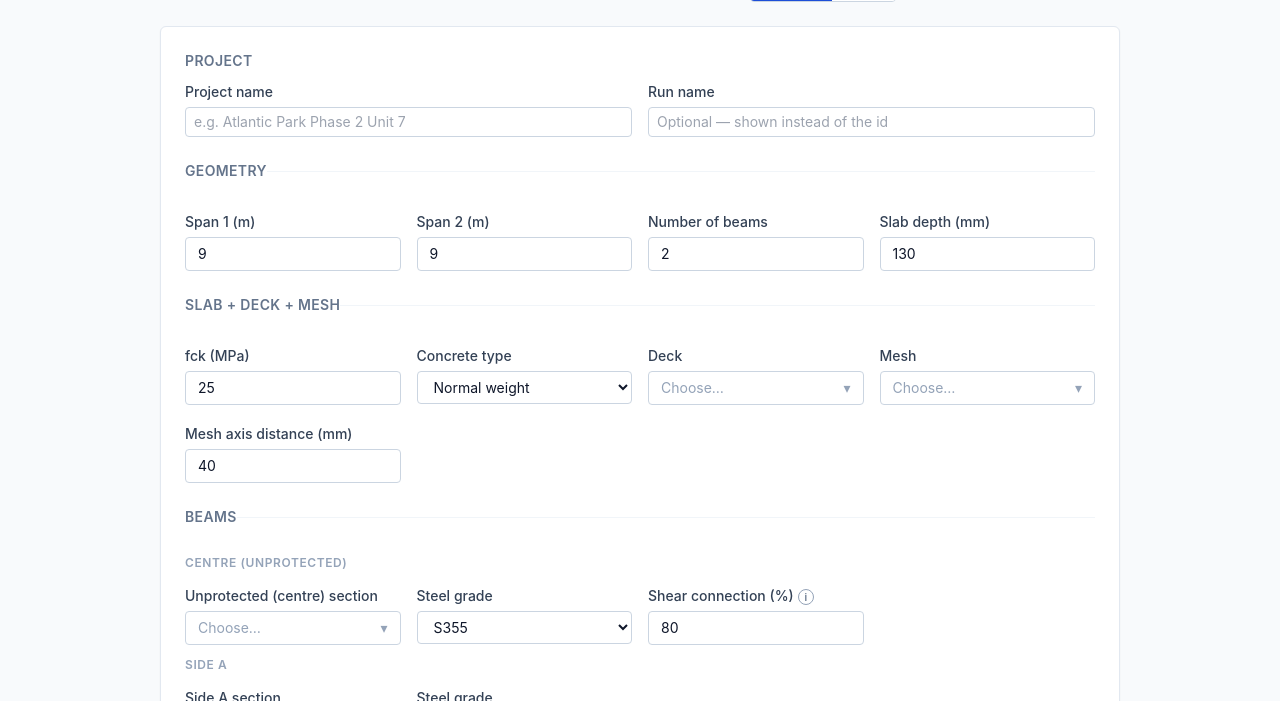
ConfigPage › blocks submission when shear connection is outside 0-100%
Replace the text in the number field labelled "Shear connection (%)" with "150". click: point(756, 628)
box: [648,611,864,645]
(page scrolled)
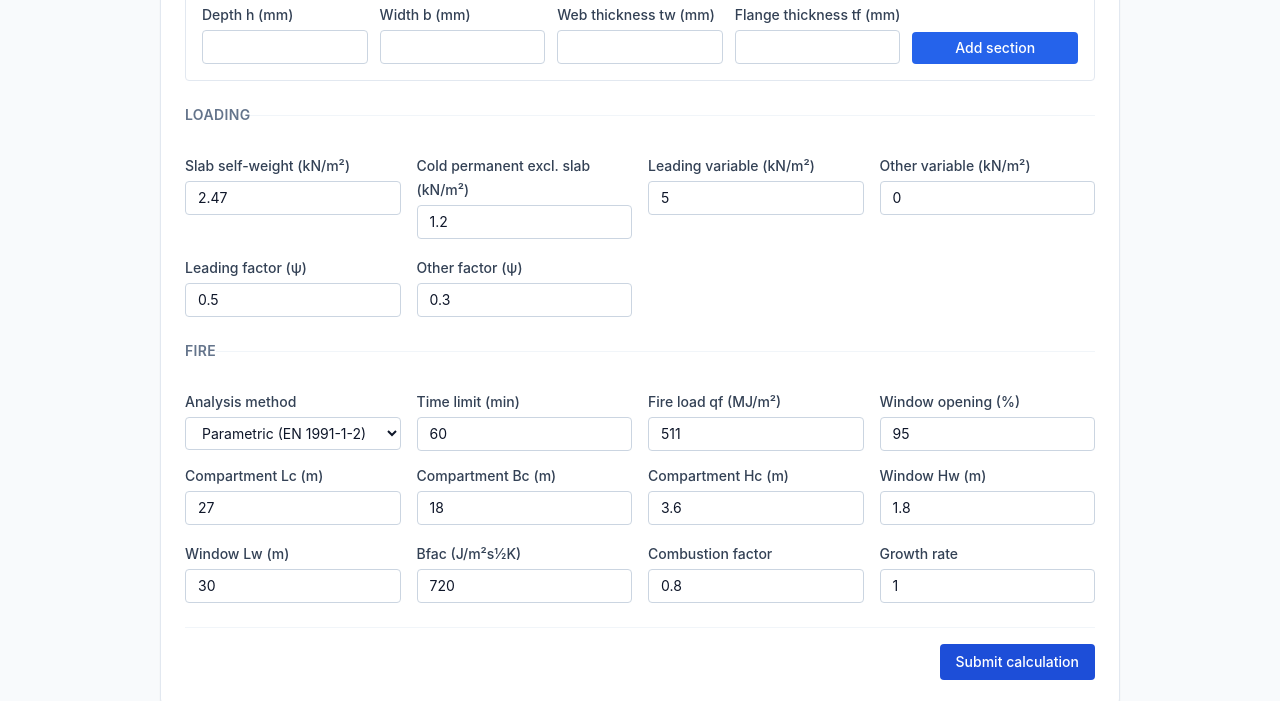
Click the button "Submit calculation". click: point(1017, 662)
box: [940,644,1095,680]
(page scrolled)
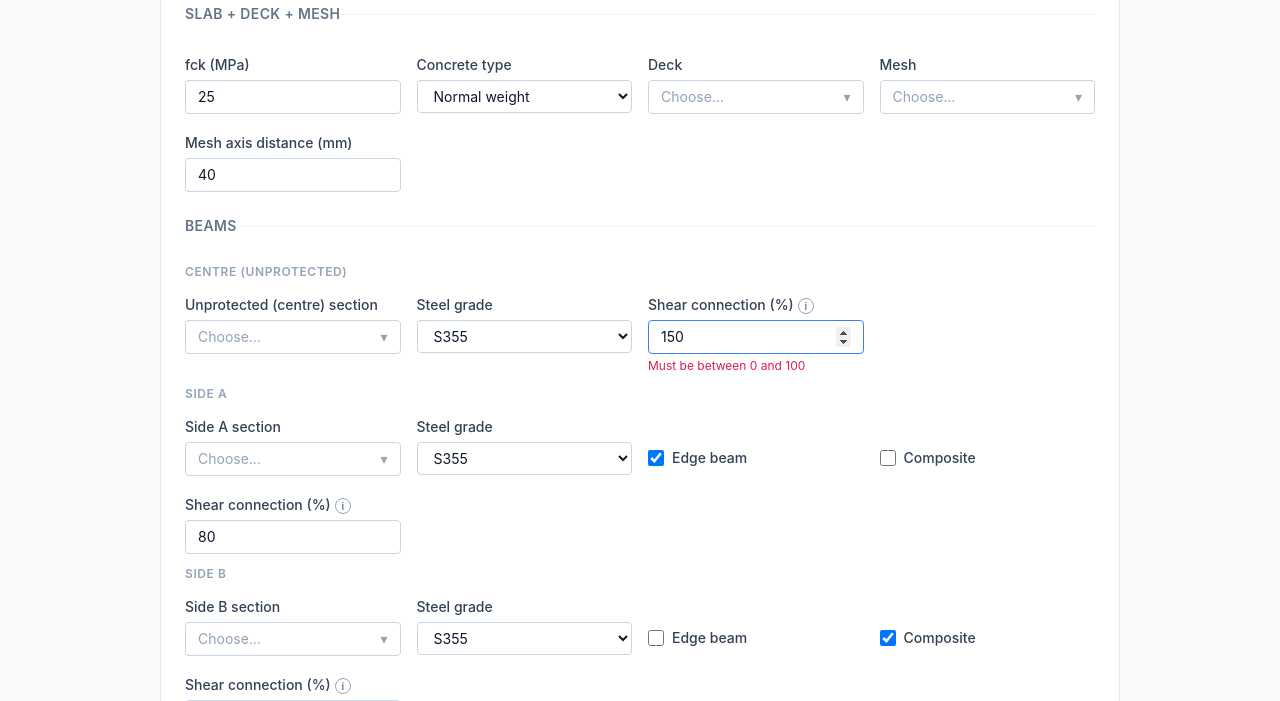
Expected: the text "Must be between 0 and 100" is shown, [648,358,805,373]
